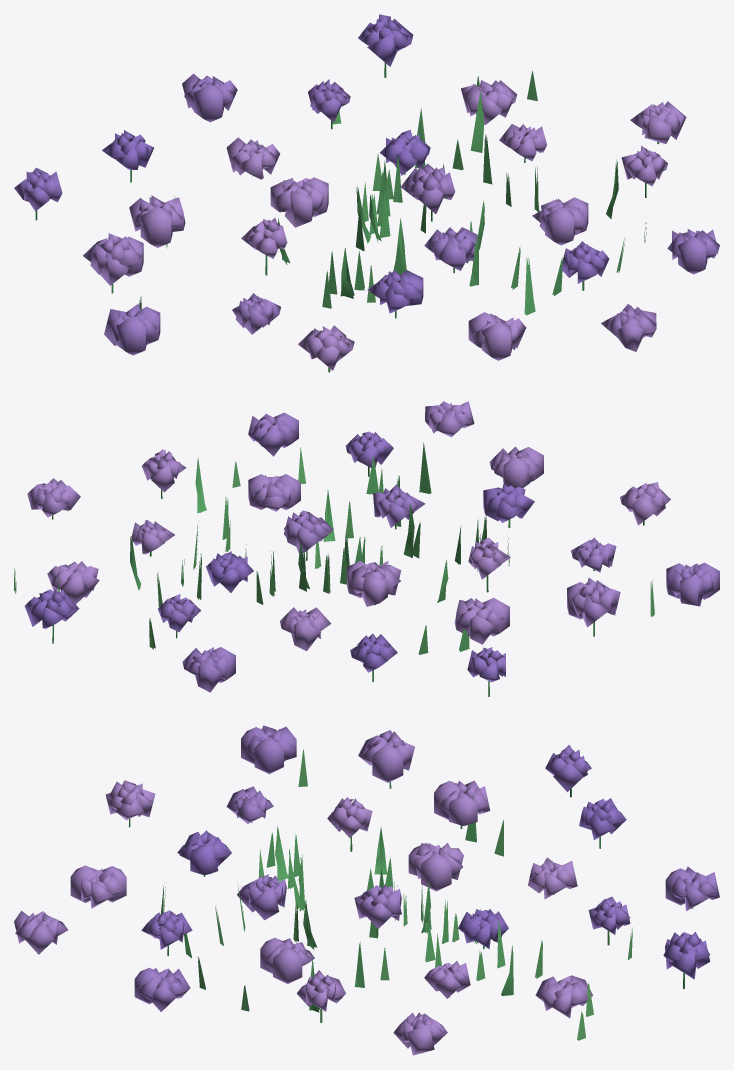
The model's file is flora_carpet_lilac.gltf.
The picture shows the model from 3 angles, top to bottom: view 1: azimuth 30°, elevation 25°; view 2: azimuth 150°, elevation 25°; view 3: azimuth 270°, elevation 25°; orthographic projection. The views are drawn at different scales.
Parts seen in each view (by area): view 1: flora_carpet_lilac; view 2: flora_carpet_lilac; view 3: flora_carpet_lilac.
Boxes of the visible parts, <box> form: flora_carpet_lilac: <box>14,14,719,372</box>; flora_carpet_lilac: <box>14,401,719,696</box>; flora_carpet_lilac: <box>14,725,719,1055</box>.
Size of what is drawn, in the model's own units: 1.62 by 0.1595 by 1.57.
